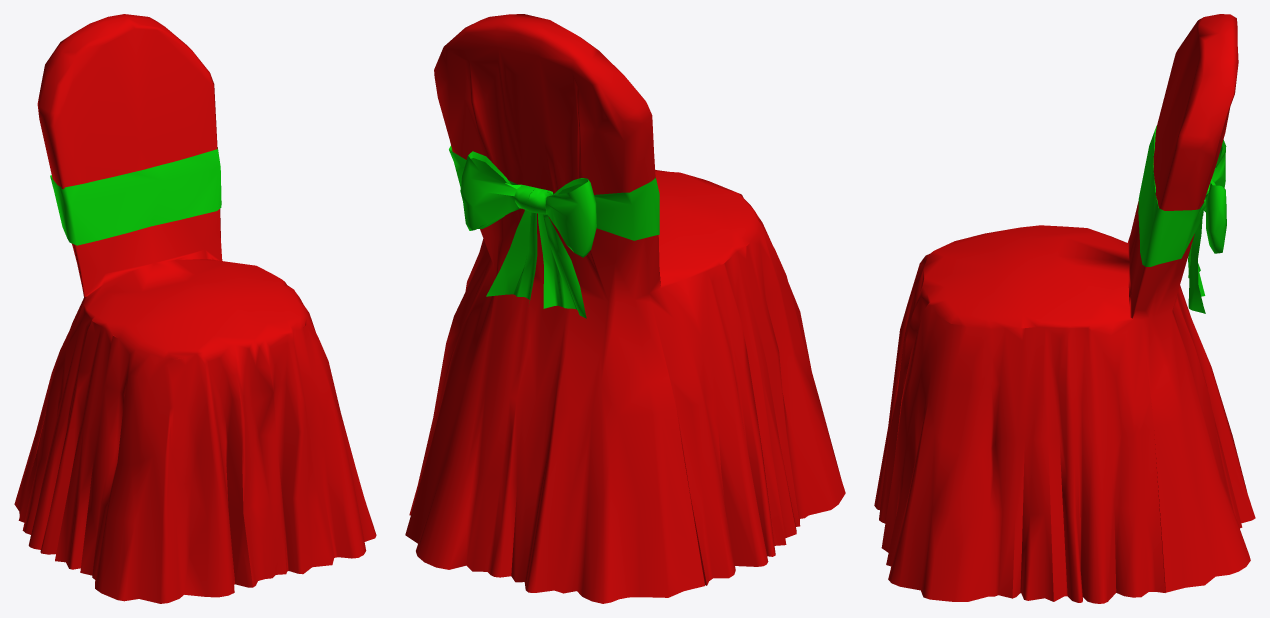
Rendered from Chair.FBX.
The picture shows the model from 3 angles, left to right: view 1: azimuth 30°, elevation 25°; view 2: azimuth 150°, elevation 25°; view 3: azimuth 270°, elevation 25°; orthographic projection. The views are drawn at different scales.
Parts seen in each view (by area): view 1: Chair; view 2: Chair; view 3: Chair.
Part boxes in pixels (x1,y1,x2,y2): Chair: (14,14,376,603); Chair: (405,14,845,603); Chair: (874,14,1255,603).
Size of the model in its own units: 64.73 by 99.77 by 68.54.
